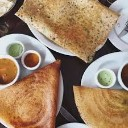dosa: (15, 1, 121, 61), (2, 60, 64, 128), (73, 84, 128, 127)
